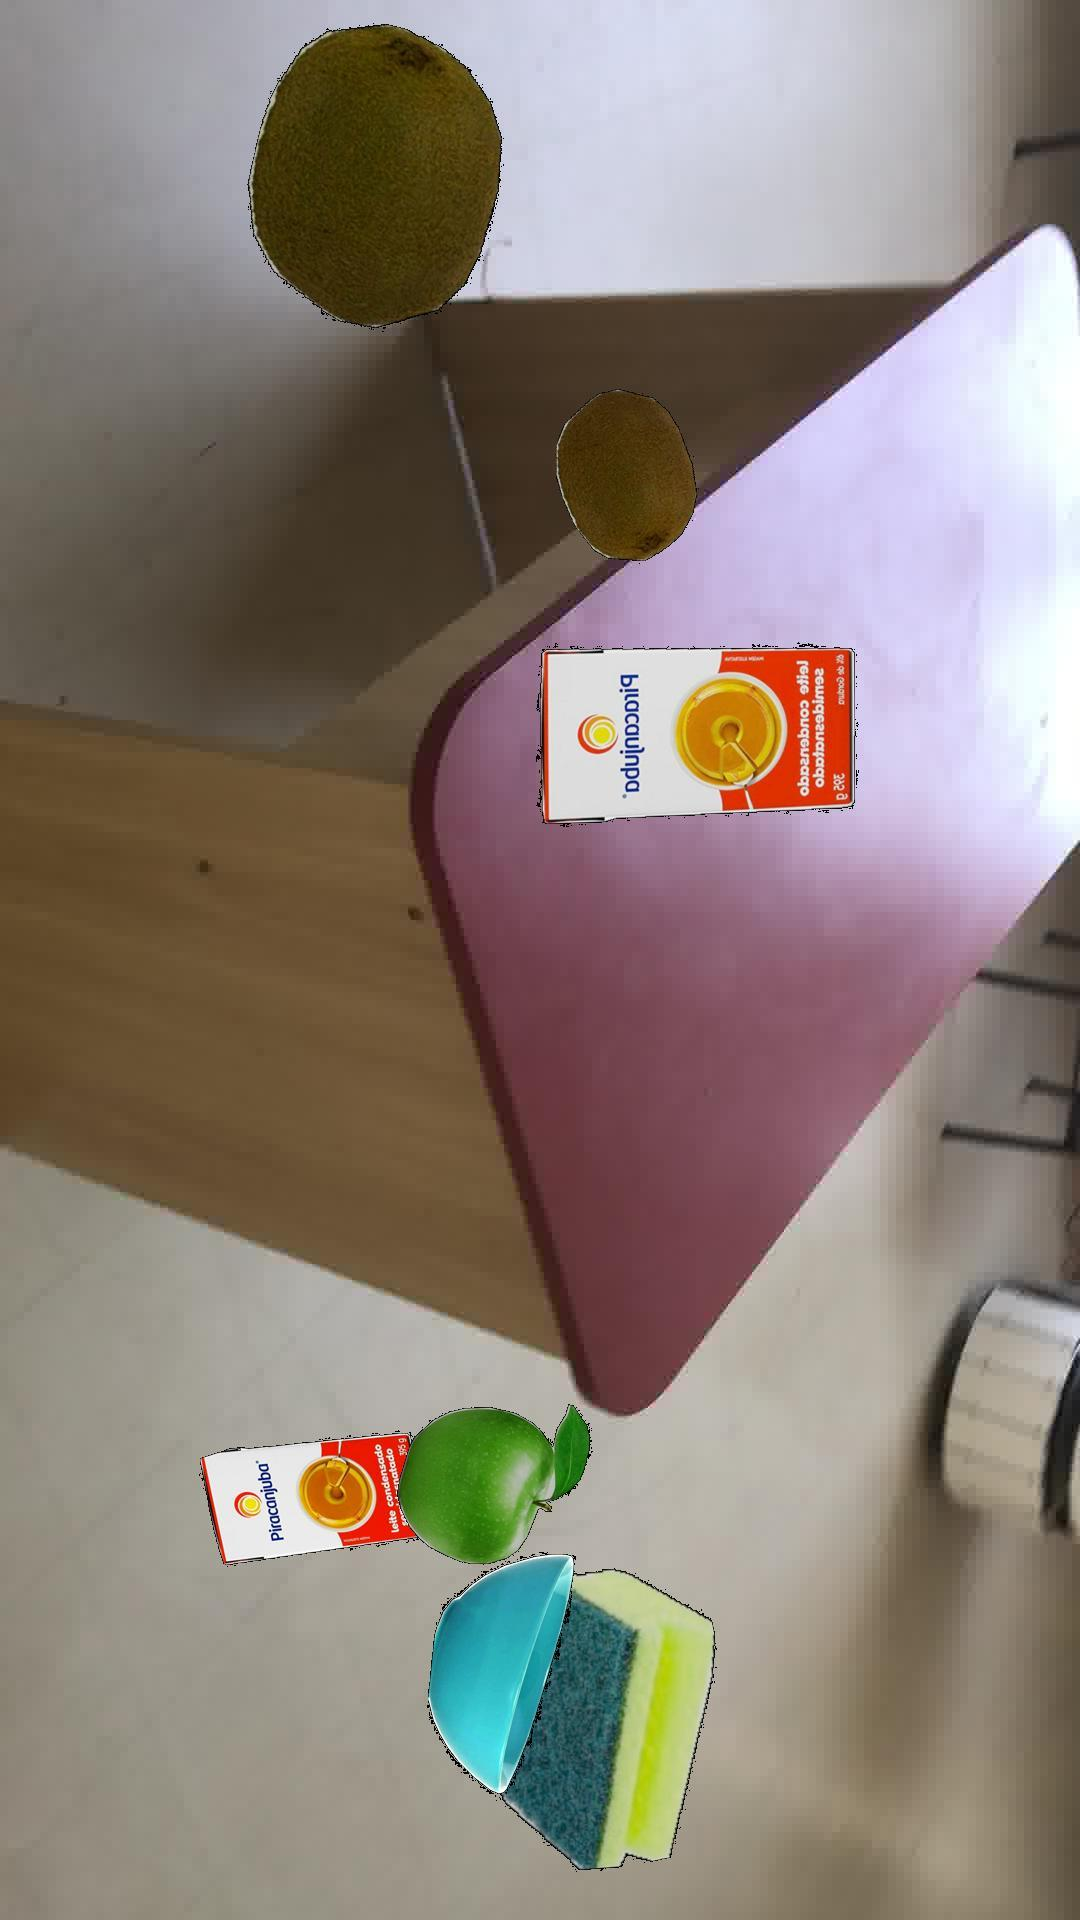bowl: (426, 1551, 575, 1792)
green apple: (396, 1403, 591, 1564)
kiwi: (245, 22, 501, 328), (554, 388, 695, 559)
sponge: (498, 1567, 715, 1870)
